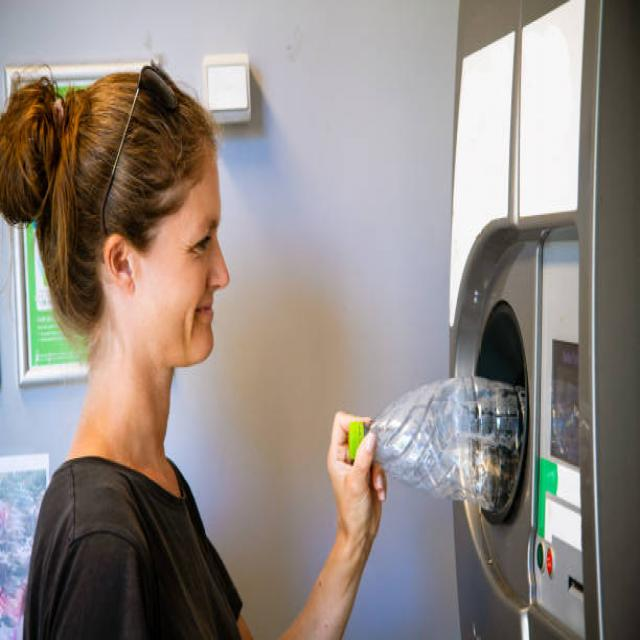plastic: (349, 385, 519, 500)
